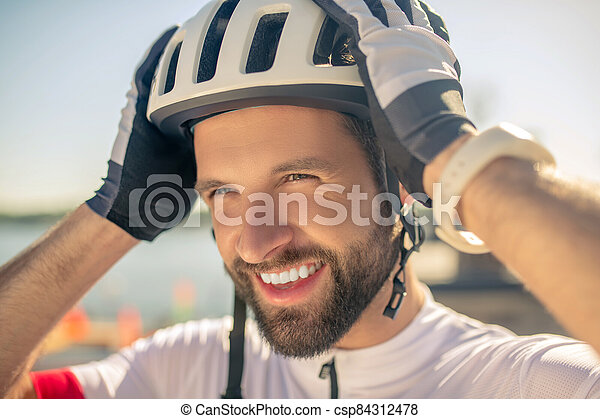helmet: (146, 1, 461, 357)
